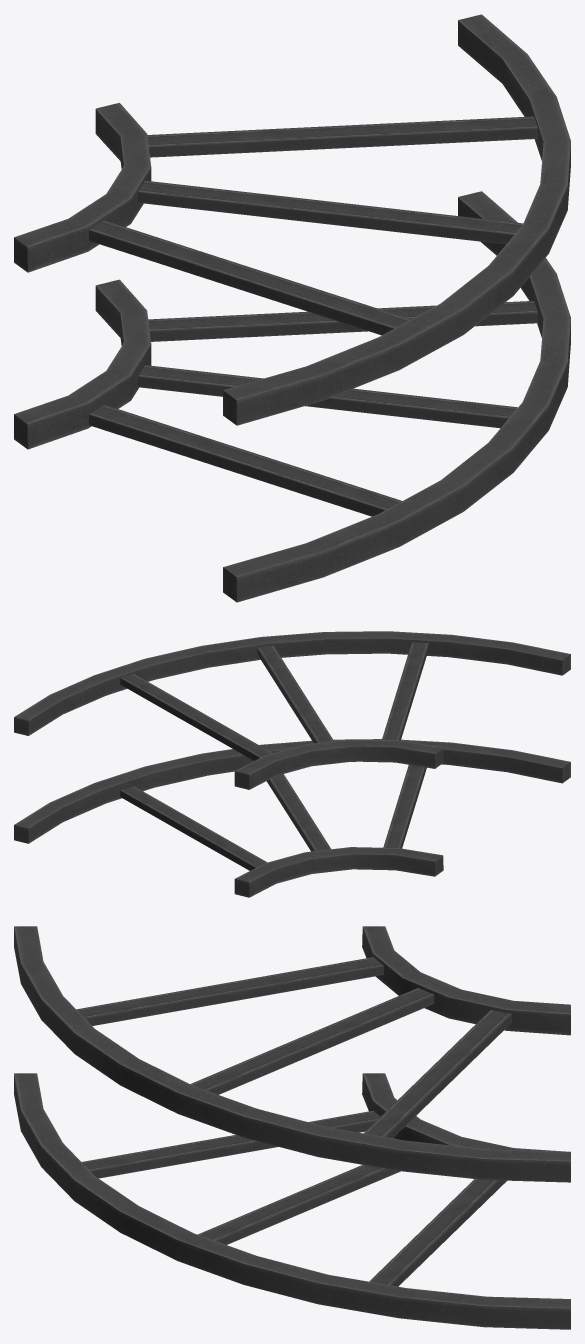
File: p6_wire_trellis_90_bend_lod0.glb
The picture shows the model from 3 angles, top to bottom: view 1: azimuth 30°, elevation 25°; view 2: azimuth 150°, elevation 25°; view 3: azimuth 270°, elevation 25°; orthographic projection. The views are drawn at different scales.
Parts seen in each view (by area): view 1: surf0; view 2: surf0; view 3: surf0.
Boxes of the visible parts, x1,y1,x2,y2 form: surf0: [14, 14, 570, 602]; surf0: [14, 631, 570, 897]; surf0: [14, 926, 570, 1329].
Bounding box in the file's own units: 48 × 16 × 48.
